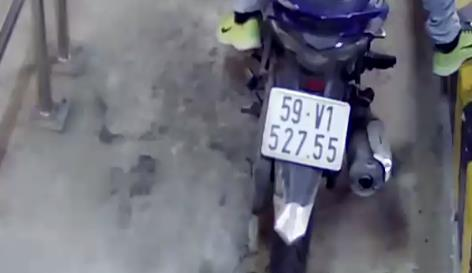lisence: (259, 87, 351, 173)
